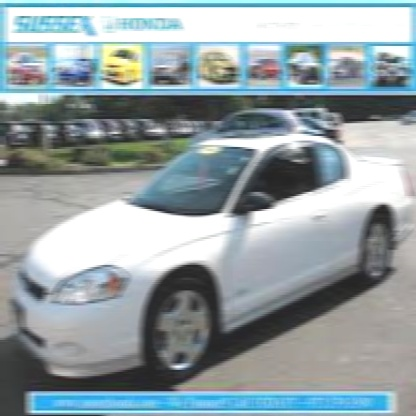Vehicle: (11, 129, 414, 390)
